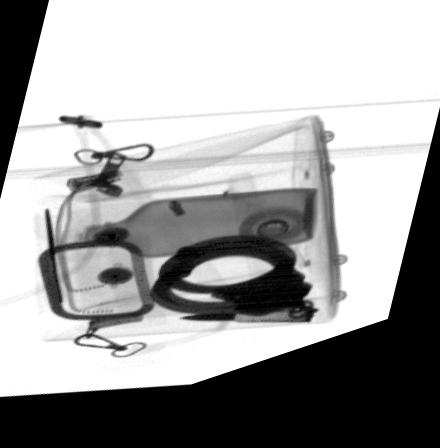Bullet: (178, 325, 313, 344)
HandCuffs: (144, 248, 322, 340)
